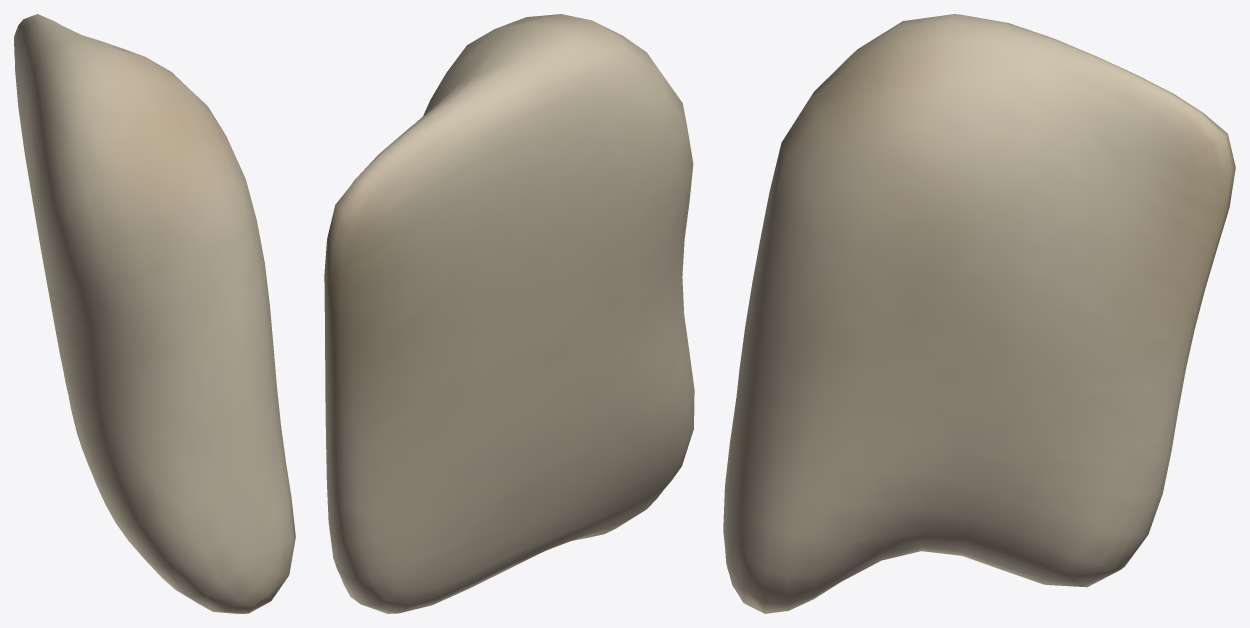
The model's file is L tarsi secundum.fbx.
3 views of the same model, side by side, from view 1: azimuth 30°, elevation 25°; view 2: azimuth 150°, elevation 25°; view 3: azimuth 270°, elevation 25° (orthographic). The views are drawn at different scales.
Visible parts, largest first — view 1: L tarsi secundum; view 2: L tarsi secundum; view 3: L tarsi secundum.
Part boxes in pixels (x1,y1,x2,y2): L tarsi secundum: (14,14,295,613); L tarsi secundum: (324,14,694,613); L tarsi secundum: (723,14,1235,613).
Size of the model in its own units: 1.27 by 3.19 by 2.68.
